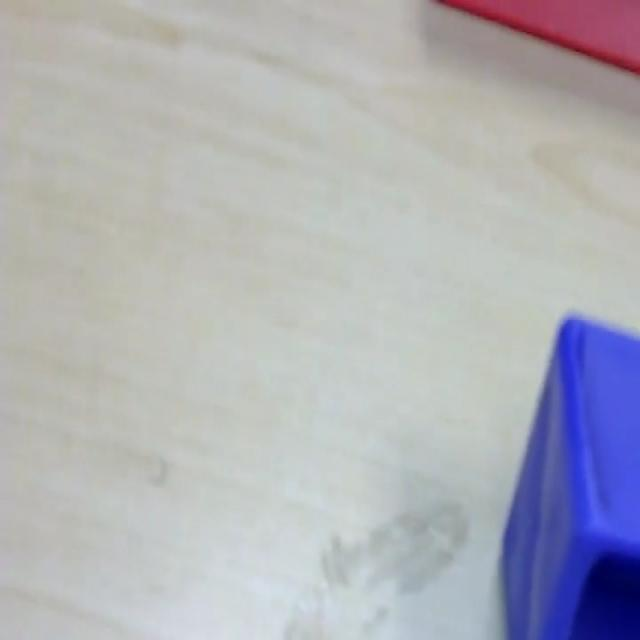blue_block: (499, 308, 638, 636)
